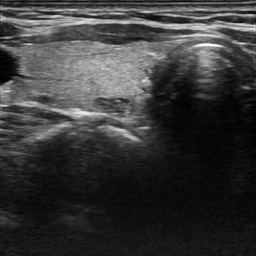mass: (96, 95, 129, 113)
